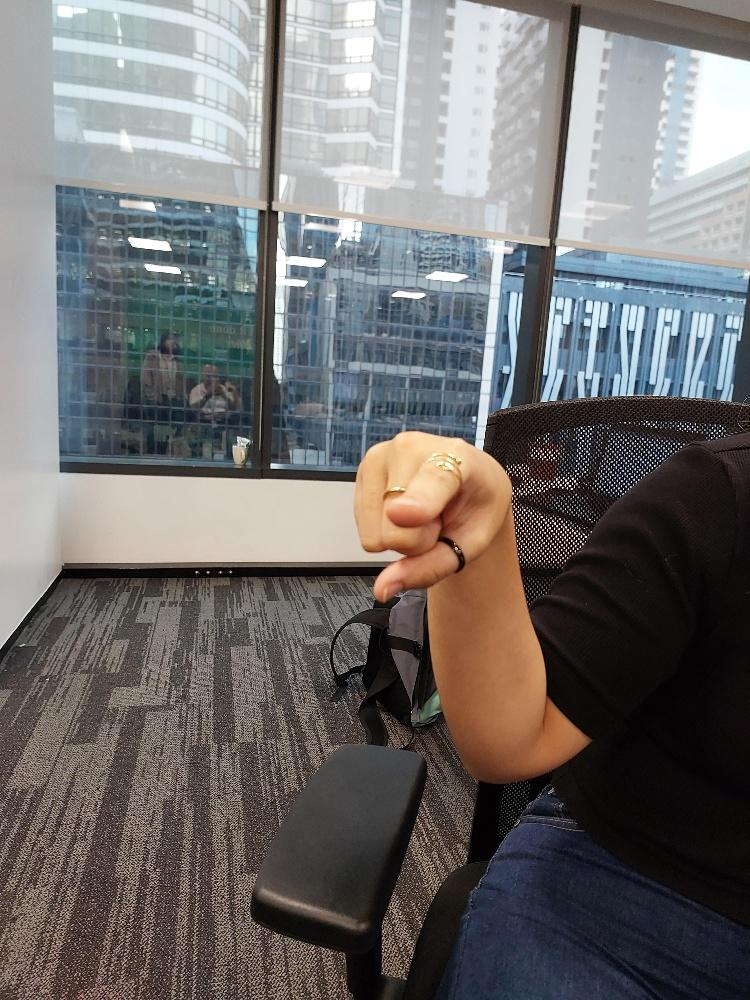z: (348, 426, 516, 608)
